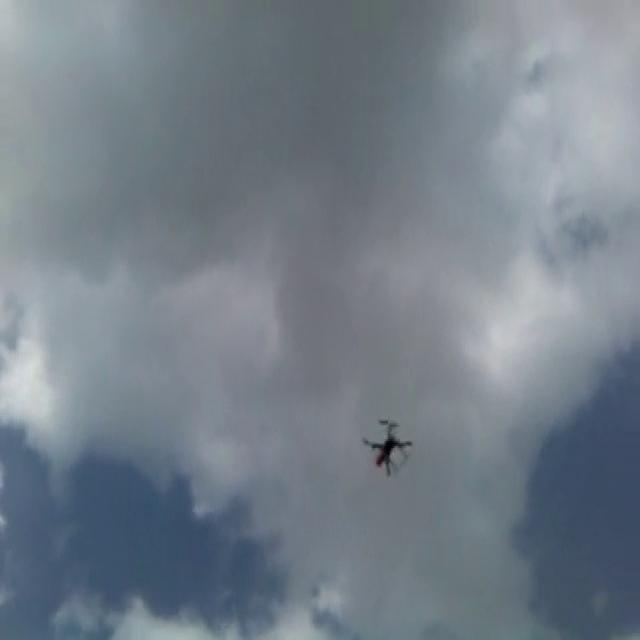drone: (357, 416, 413, 476)
